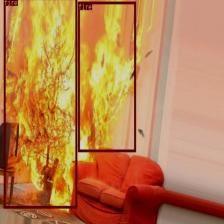fire: (3, 0, 77, 208), (78, 2, 136, 152)
